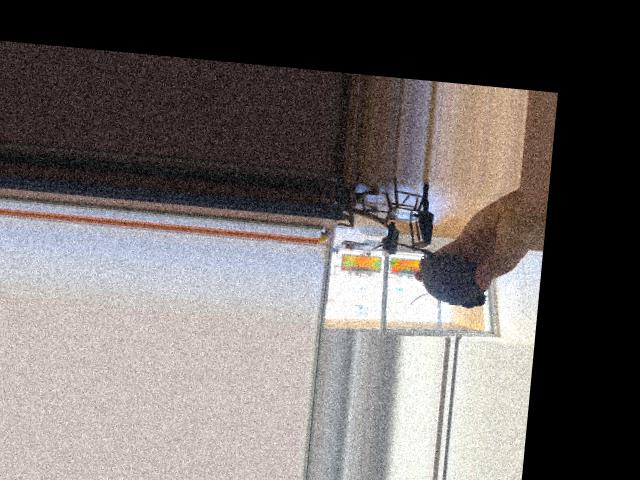beet: (366, 240, 489, 310)
